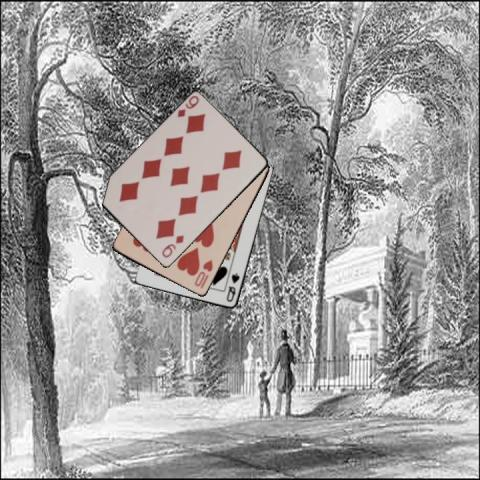10h: (191, 257, 215, 290)
9d: (174, 93, 201, 119), (159, 233, 185, 259)
Qs: (224, 270, 242, 303)
